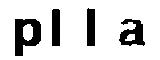a: (117, 17, 149, 51)
l: (82, 5, 109, 50), (48, 3, 64, 53)
p: (12, 16, 44, 59)
